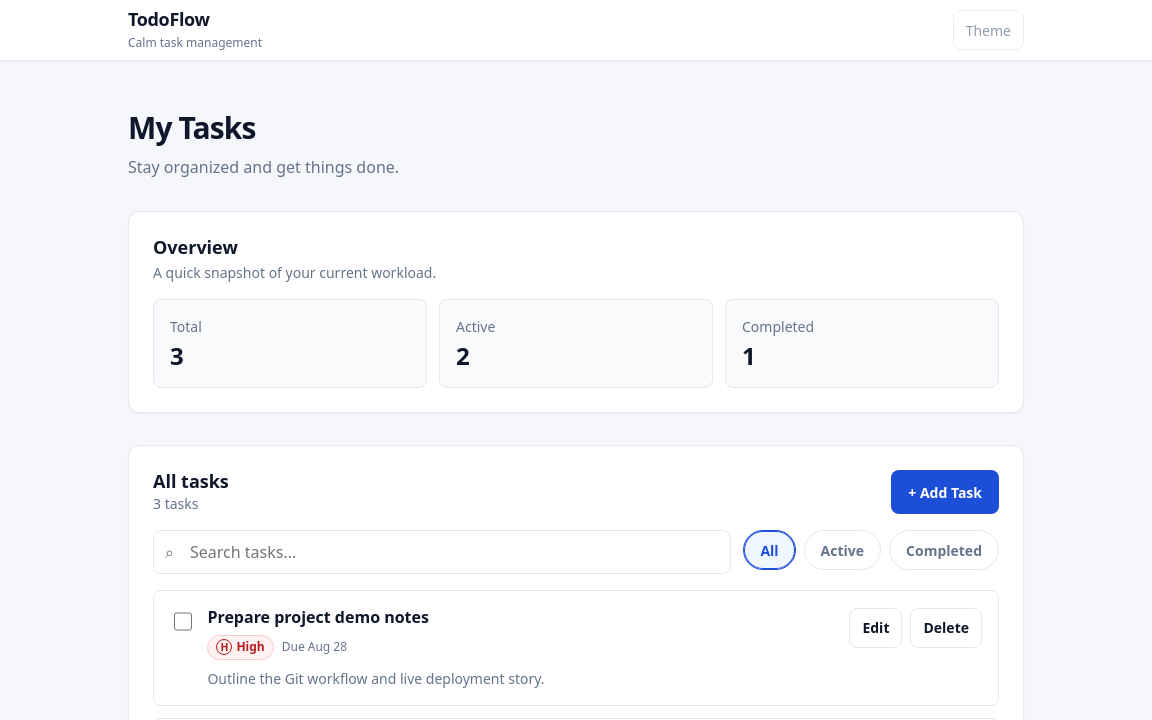
TodoFlow App › keeps the edit dialog open after API failure and allows retry
Expected: the text "Prepare project demo notes" is shown, [207,606,429,628]
Click the button with aria-label "Edit task “Prepare project demo notes”". click: point(876, 628)
box: [849,608,902,648]
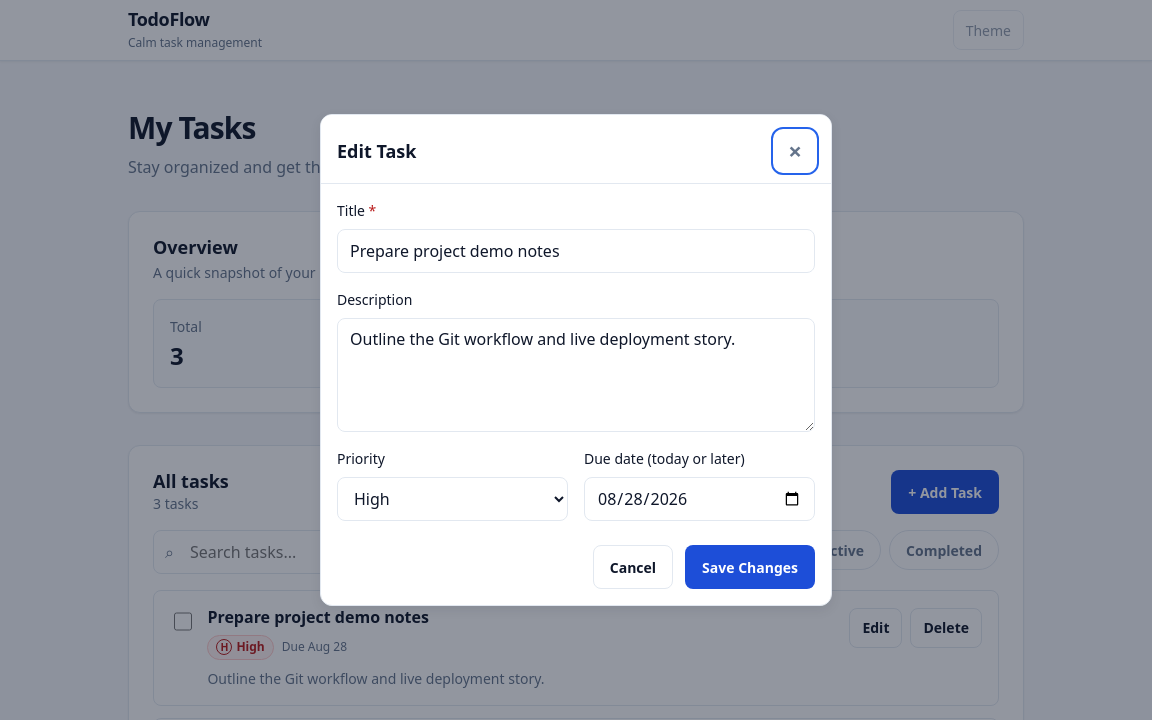
Replace the text in the field labelled "Title *" with "Edited demo notes". click: point(576, 251)
box: [337,229,815,273]
Replace the text in the text box labelled "Description" with "Updated description". click: point(576, 375)
box: [337,318,815,432]
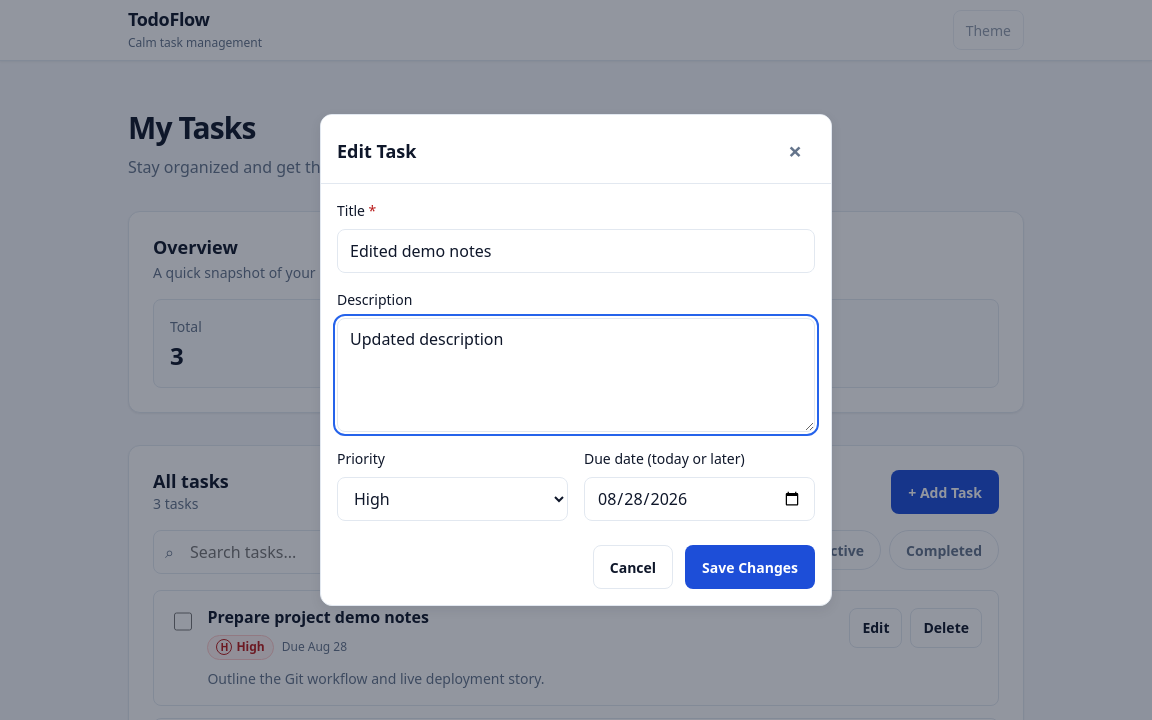
Select "Medium" in the dropdown labelled "Priority". click: point(452, 499)
box: [337,477,568,521]
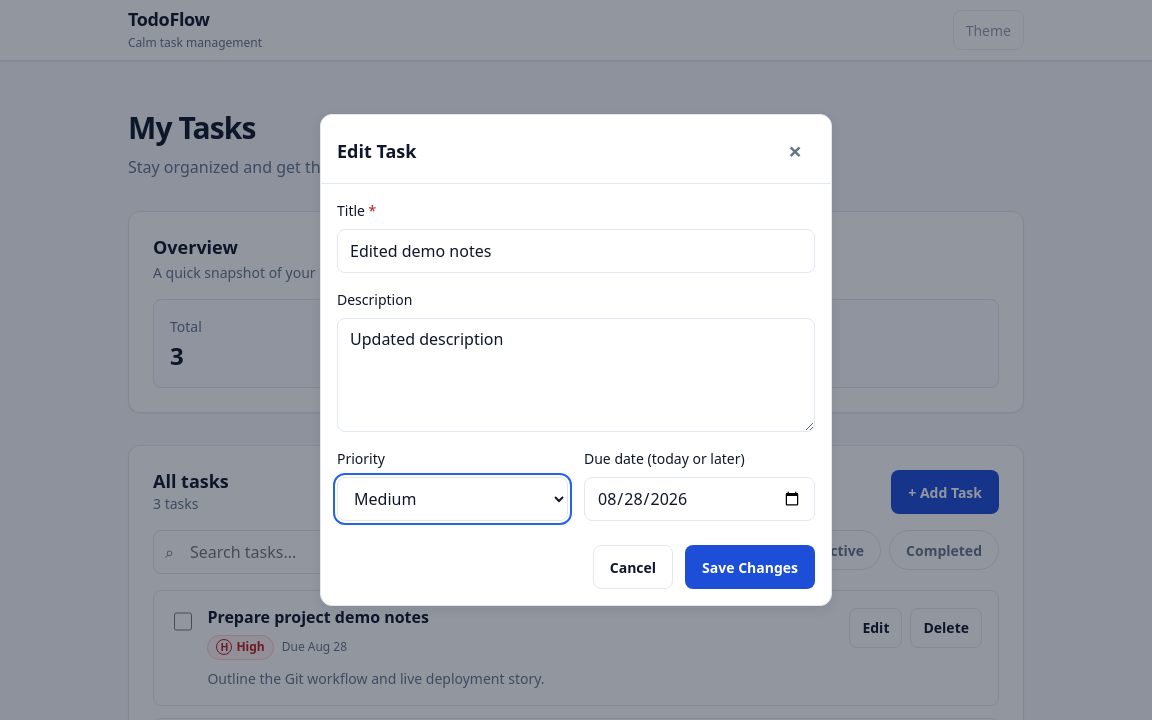
Type "2026-08-26" into the date field labelled "Due date (today or later)". click: point(700, 499)
box: [584,477,815,521]
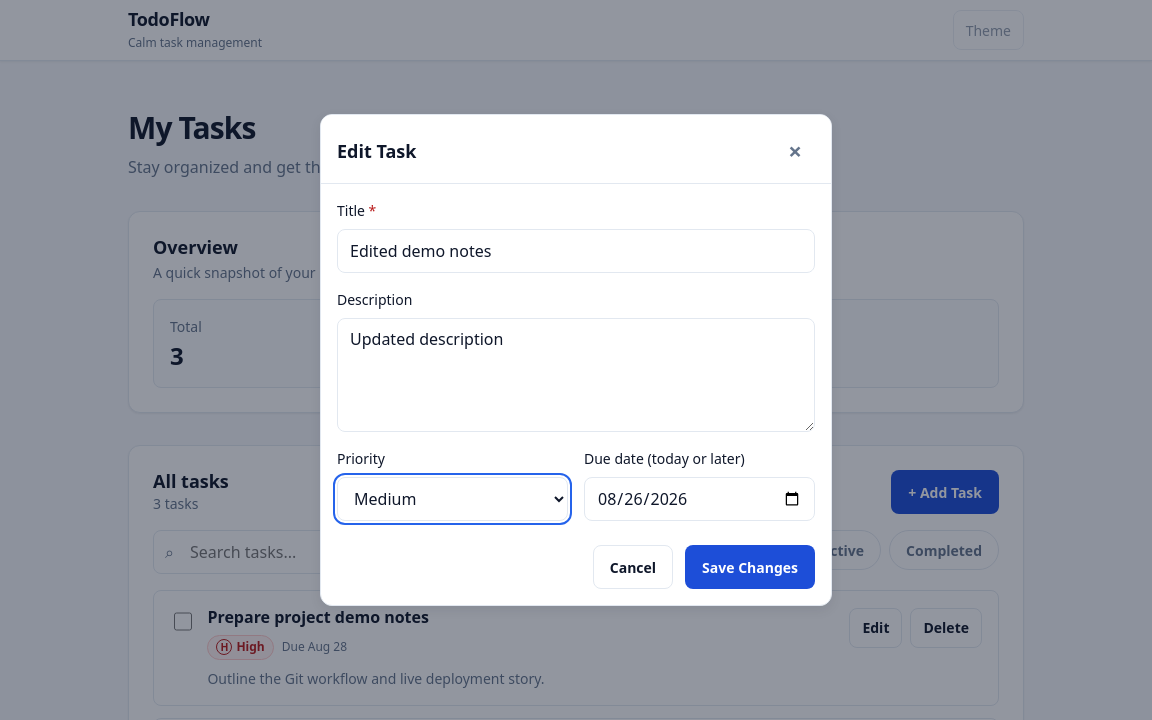
Click the button "Save Changes". click: point(750, 567)
box: [685,545,815,589]
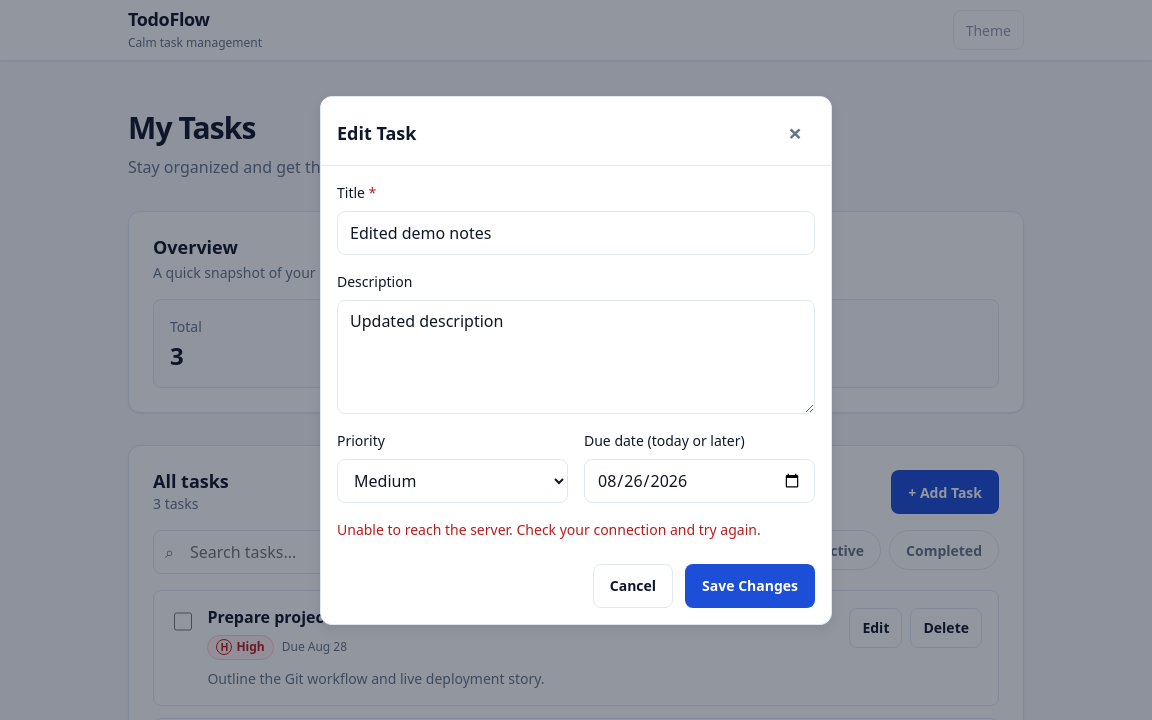
Expected: the text "Prepare project demo notes" is shown, [207,606,429,628]
Now the dialog "Edit Task" is shown, box [320,96,832,624]
Now the text "Unable to reach the server. Check your connection and try again." is shown, box [337,518,815,540]
Click the button "Save Changes". click: point(750, 586)
box: [685,564,815,608]
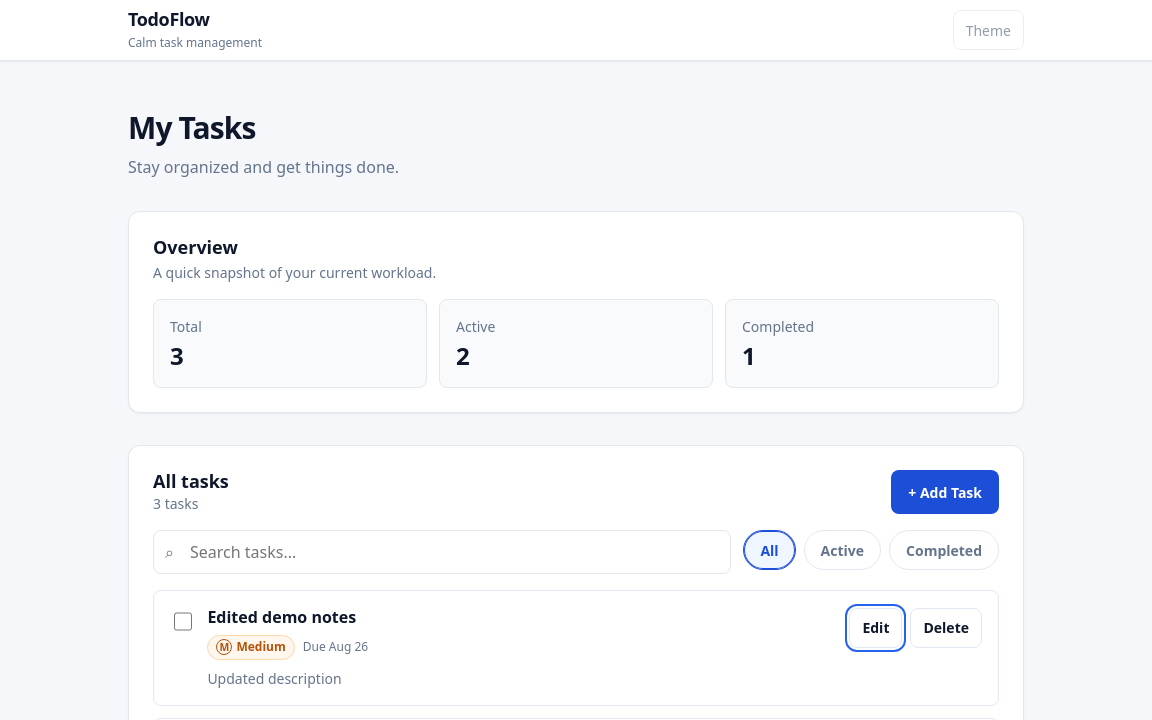
Now the heading "Edit Task" is gone
Now the text "Edited demo notes" is shown, box [207,606,356,628]
